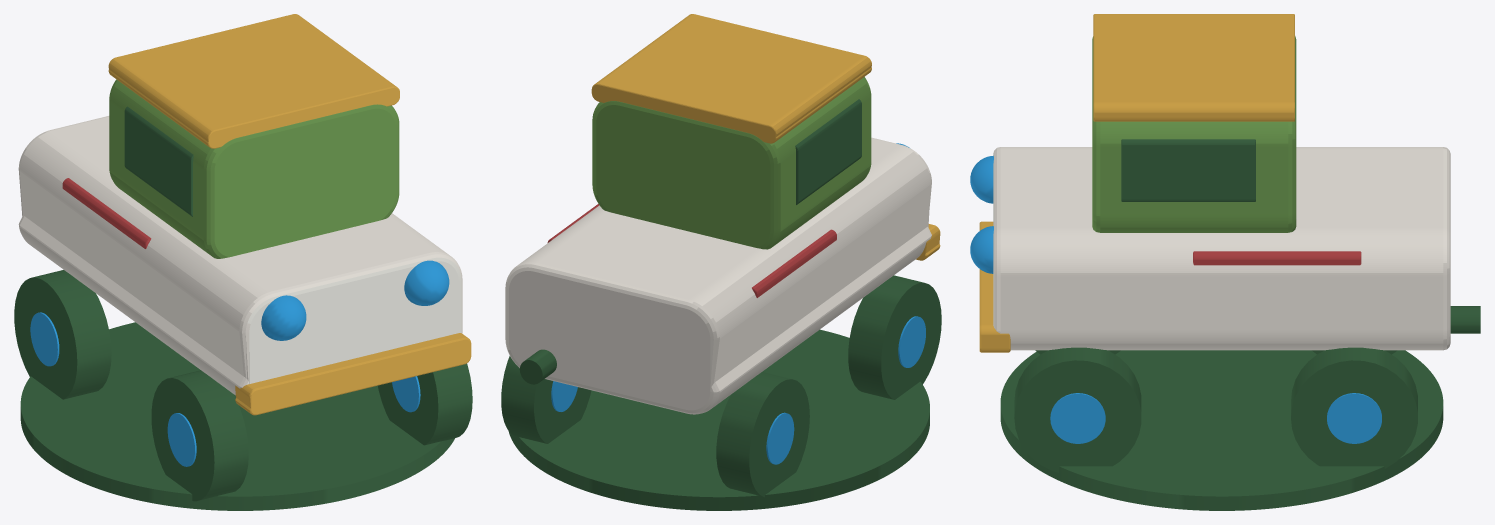
Rendered from 0385_欧洲文明图鉴_中世纪面包师.glb.
The picture shows the model from 3 angles, left to right: view 1: azimuth 30°, elevation 25°; view 2: azimuth 150°, elevation 25°; view 3: azimuth 270°, elevation 25°; orthographic projection. The views are drawn at different scales.
Parts seen in each view (by area): view 1: card_0385; view 2: card_0385; view 3: card_0385.
Boxes of the visible parts, x1,y1,x2,y2 form: card_0385: (14, 14, 472, 510); card_0385: (501, 14, 941, 510); card_0385: (970, 14, 1480, 510).
Bounding box in the file's own units: 1.12 × 1 × 1.29.
